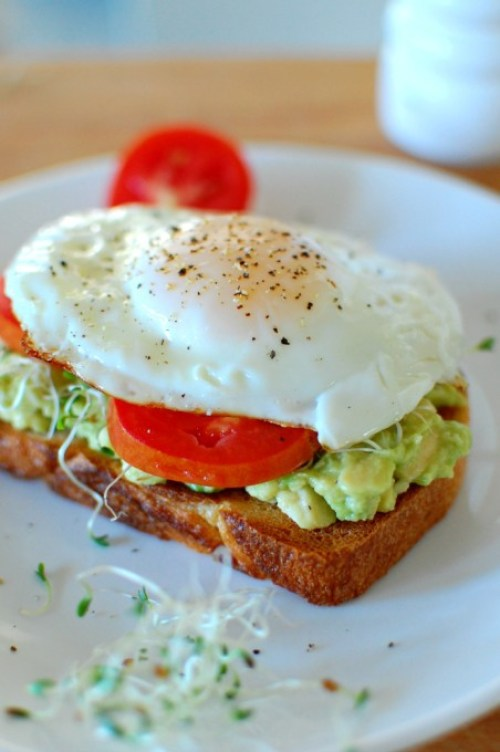fried egg: (34, 205, 422, 415)
slice of bread: (1, 443, 476, 603)
